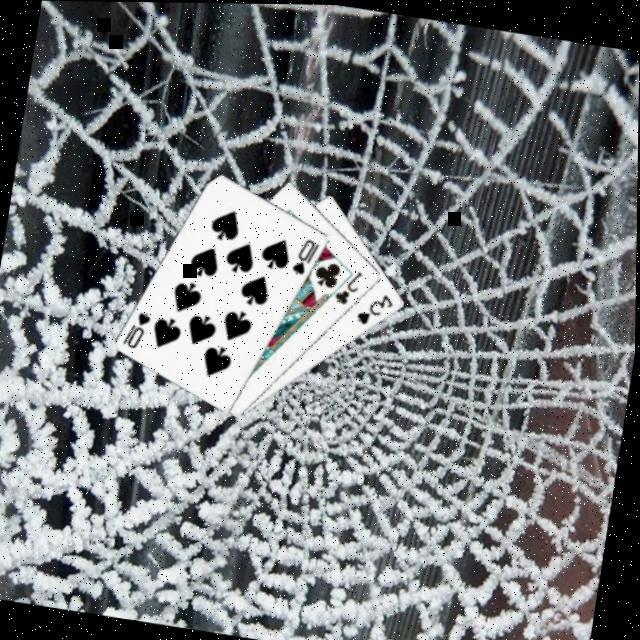10S: (119, 303, 155, 351), (288, 230, 324, 276)
3S: (353, 285, 397, 329)
JC: (331, 262, 367, 306)
